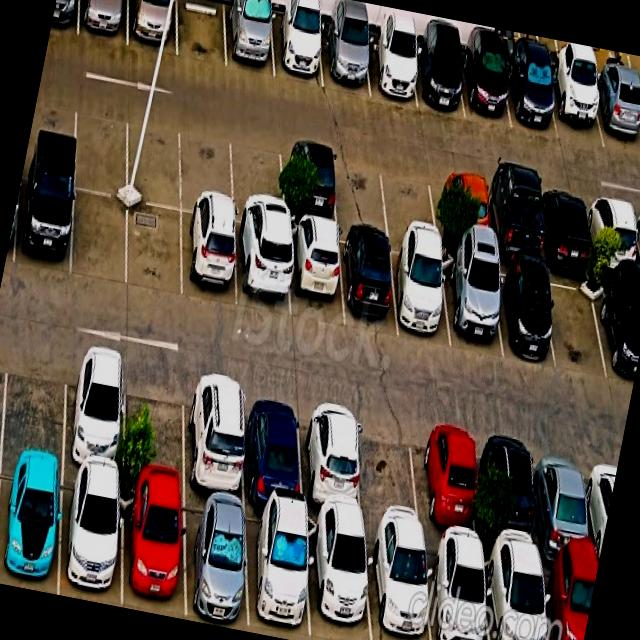car: (183, 493, 249, 629), (0, 458, 63, 595), (246, 506, 310, 640), (122, 481, 185, 617), (59, 469, 121, 605), (300, 395, 363, 526), (63, 345, 125, 478), (417, 415, 479, 548), (307, 517, 371, 640), (535, 436, 595, 566), (186, 371, 245, 503), (244, 382, 302, 511), (485, 427, 541, 557), (365, 531, 431, 640), (440, 251, 503, 358), (490, 260, 554, 363), (390, 240, 450, 348), (425, 539, 489, 640), (14, 174, 75, 277), (340, 230, 398, 334), (288, 220, 343, 327), (483, 549, 547, 640), (182, 213, 237, 308), (235, 225, 290, 319), (484, 176, 543, 263), (433, 166, 490, 251), (281, 139, 338, 224), (598, 274, 640, 387), (541, 558, 598, 640), (547, 67, 604, 148), (539, 184, 593, 267), (587, 192, 640, 275), (505, 56, 558, 138), (460, 48, 511, 128), (590, 75, 640, 155), (411, 43, 464, 118), (271, 11, 323, 87), (365, 33, 417, 107), (225, 1, 274, 78), (321, 25, 369, 95), (128, 0, 177, 55), (78, 0, 128, 45)
free: (355, 406, 423, 537), (1, 336, 67, 464), (124, 358, 185, 491), (546, 265, 609, 376), (127, 108, 182, 210), (71, 190, 128, 287), (231, 129, 284, 232), (74, 97, 127, 197), (181, 120, 233, 220), (128, 202, 181, 300), (382, 156, 438, 239), (334, 148, 389, 232), (177, 0, 227, 67)
